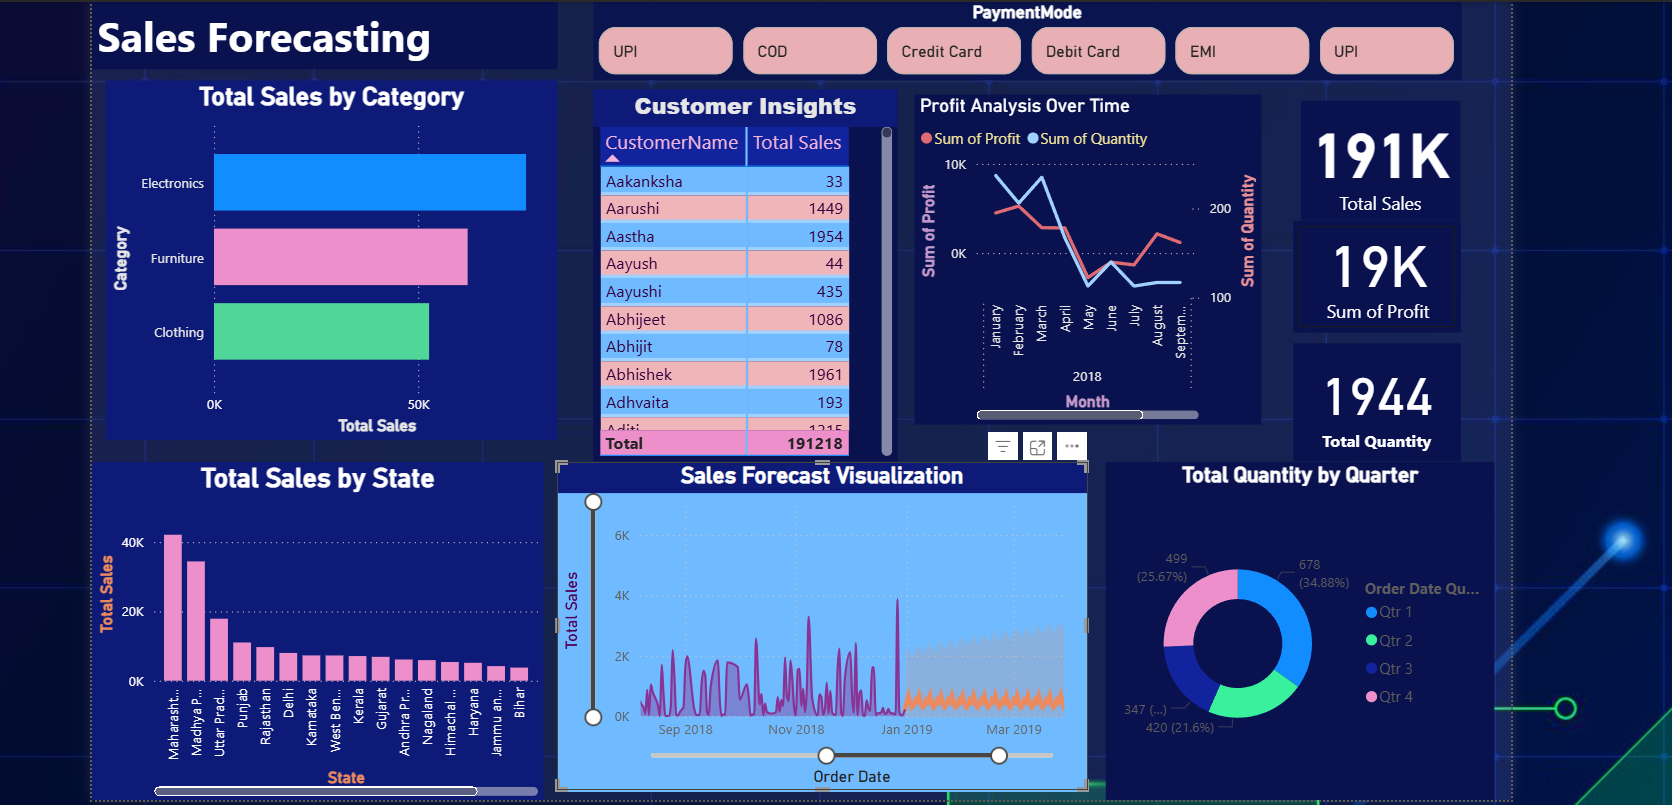

Layout of this report page (visuals, bound fields, positions):
{"tool":"powerbi","page":{"name":"Page 1","canvas":[1280,720],"ordinal":0},"visuals":[{"type":"clusteredBarChart","fields":{"Y":["Orders.Total Sales"],"Category":["Orders.Category"]},"box":[12.5,70.7,407.4,324.2],"z":0},{"type":"columnChart","fields":{"Category":["Orders.State"],"Y":["Orders.Total Sales"]},"box":[0,414.3,407.4,306.2],"z":1000},{"type":"lineChart","title":"Profit Analysis Over Time ","fields":{"Y":["Orders.Profit"],"Category":["Orders.Order Date.Variation.Date Hierarchy.Year","Orders.Order Date.Variation.Date Hierarchy.Month"],"Y2":["Orders.Quantity"]},"box":[741.3,83.1,313.1,297.9],"z":2000},{"type":"tableEx","title":"Customer Insights","fields":{"Values":["Orders.CustomerName","Orders.Total Sales"]},"box":[451.7,79,274.3,335.3],"z":3000},{"type":"lineChart","title":"Sales Forecast Visualization","fields":{"Category":["Orders.Order Date"],"Y":["Orders.Total Sales"]},"box":[419.8,414.3,478,296.5],"z":4000},{"type":"advancedSlicerVisual","fields":{"Values":["Orders.PaymentMode"]},"box":[451.7,0,782.9,70.7],"z":5000},{"type":"textbox","box":[0,0,419.8,61],"z":6000},{"type":"donutChart","fields":{"Y":["Orders.Total Quantity"],"Category":["Orders.Order Date.Variation.Date Hierarchy.Quarter"]},"box":[914.5,414.3,350.6,306.2],"z":7000},{"type":"cardVisual","fields":{"Data":["Orders.Profit"]},"box":[1083.5,196.8,151,101.1],"z":8000},{"type":"card","fields":{"Values":["Orders.Total Sales"]},"box":[1090.5,88.7,144.1,108.1],"z":9000},{"type":"card","fields":{"Values":["Orders.Total Quantity"]},"box":[1083.5,307.6,151,106.7],"z":9001}]}

Visuals, with their boxes in screenshot pixels (x1, y1, x2, y2):
clusteredBarChart - Orders.Total Sales x Orders.Category: x1=122, y1=97, x2=556, y2=442
columnChart - Orders.State x Orders.Total Sales: x1=109, y1=463, x2=542, y2=789
"Profit Analysis Over Time " lineChart: x1=898, y1=110, x2=1231, y2=427
"Customer Insights" tableEx: x1=590, y1=106, x2=881, y2=463
"Sales Forecast Visualization" lineChart: x1=556, y1=463, x2=1064, y2=778
advancedSlicerVisual - Orders.PaymentMode: x1=590, y1=22, x2=1423, y2=97
textbox: x1=109, y1=22, x2=556, y2=87
donutChart - Orders.Total Quantity x Orders.Order Date.Variation.Date Hierarchy.Quarter: x1=1082, y1=463, x2=1455, y2=789
cardVisual - Orders.Profit: x1=1262, y1=231, x2=1423, y2=339
card - Orders.Total Sales: x1=1269, y1=116, x2=1423, y2=231
card - Orders.Total Quantity: x1=1262, y1=349, x2=1423, y2=463
